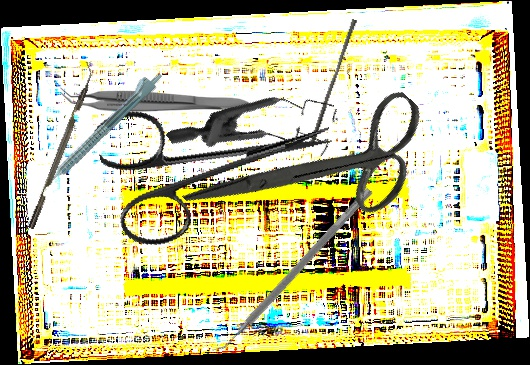Chopper: (19, 61, 100, 230)
Handpiece: (33, 65, 166, 194)
Iris Scissors: (179, 28, 454, 306), (90, 65, 347, 254)
Pusher: (308, 17, 358, 149)
Spatula Surgical: (208, 181, 374, 361)
Speculum: (165, 44, 354, 223)
Tissue Forceps: (59, 87, 250, 112)
